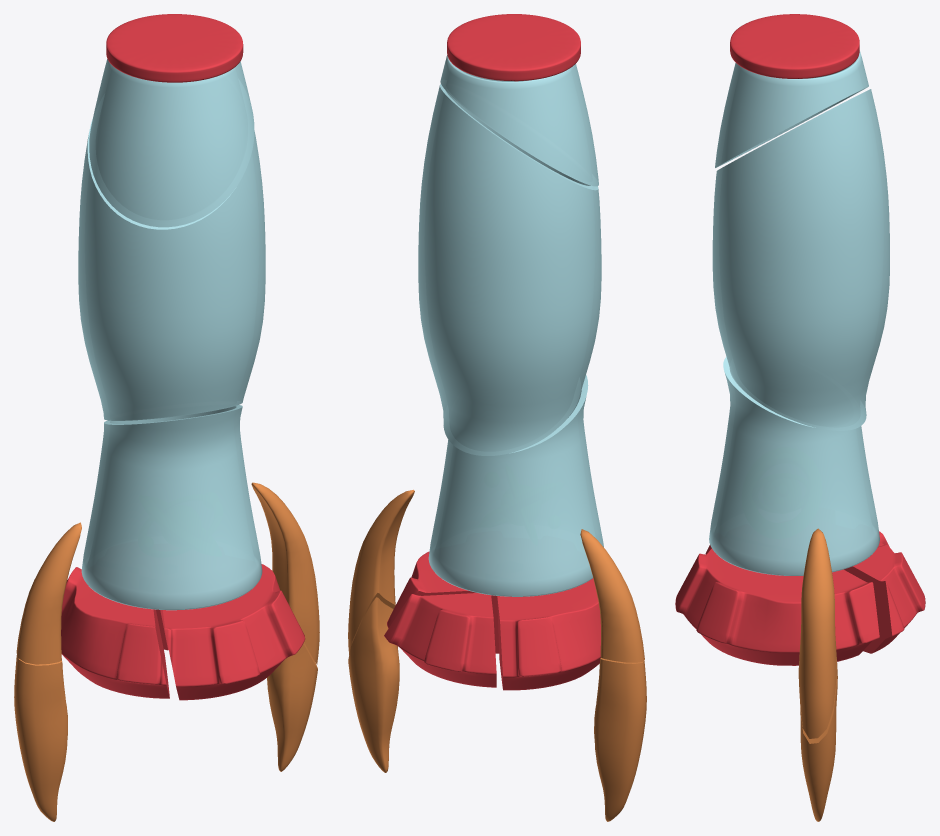
The model's file is FINAL_AlienBlender_voronoifracture.fbx.
The picture shows the model from 3 angles, left to right: view 1: azimuth 30°, elevation 25°; view 2: azimuth 150°, elevation 25°; view 3: azimuth 270°, elevation 25°; orthographic projection. The views are drawn at different scales.
Parts seen in each view (by area): view 1: Middle_glass, bottom_glass, top_glass, base_1, base_2, top, bottom_L_stands, top_R_stands, top_L_stands, bottom_R_stands; view 2: Middle_glass, bottom_glass, top_glass, base_2, base_3, top, bottom_L_stands, bottom_R_stands, top_R_stands, top_L_stands, base_1; view 3: Middle_glass, bottom_glass, base_1, top_glass, top, top_R_stands, base_3, bottom_R_stands.
Boxes of the visible parts, box(x1,y1,x2,y2) form: Middle_glass: box(78, 118, 265, 420); bottom_glass: box(81, 405, 262, 610); top_glass: box(89, 59, 254, 227); base_1: box(163, 564, 305, 700); base_2: box(61, 567, 169, 698); top: box(106, 14, 243, 82); bottom_L_stands: box(14, 655, 67, 821); top_R_stands: box(251, 482, 319, 664); top_L_stands: box(16, 522, 81, 664); bottom_R_stands: box(267, 642, 317, 771); Middle_glass: box(418, 84, 601, 455); bottom_glass: box(428, 374, 603, 596); top_glass: box(440, 55, 598, 186); base_2: box(497, 578, 600, 690); base_3: box(384, 593, 496, 687); top: box(447, 14, 580, 81); bottom_L_stands: box(594, 658, 646, 821); bottom_R_stands: box(348, 597, 399, 772); top_R_stands: box(348, 489, 414, 654); top_L_stands: box(580, 529, 644, 662); base_1: box(387, 551, 499, 653); Middle_glass: box(712, 89, 889, 430); bottom_glass: box(709, 356, 879, 575); base_1: box(675, 545, 879, 665); top_glass: box(715, 50, 868, 167); top: box(730, 14, 859, 78); top_R_stands: box(798, 528, 836, 738); base_3: box(844, 545, 925, 653); bottom_R_stands: box(800, 657, 837, 821).
Size of the model in its own units: 180 by 440 by 137.
